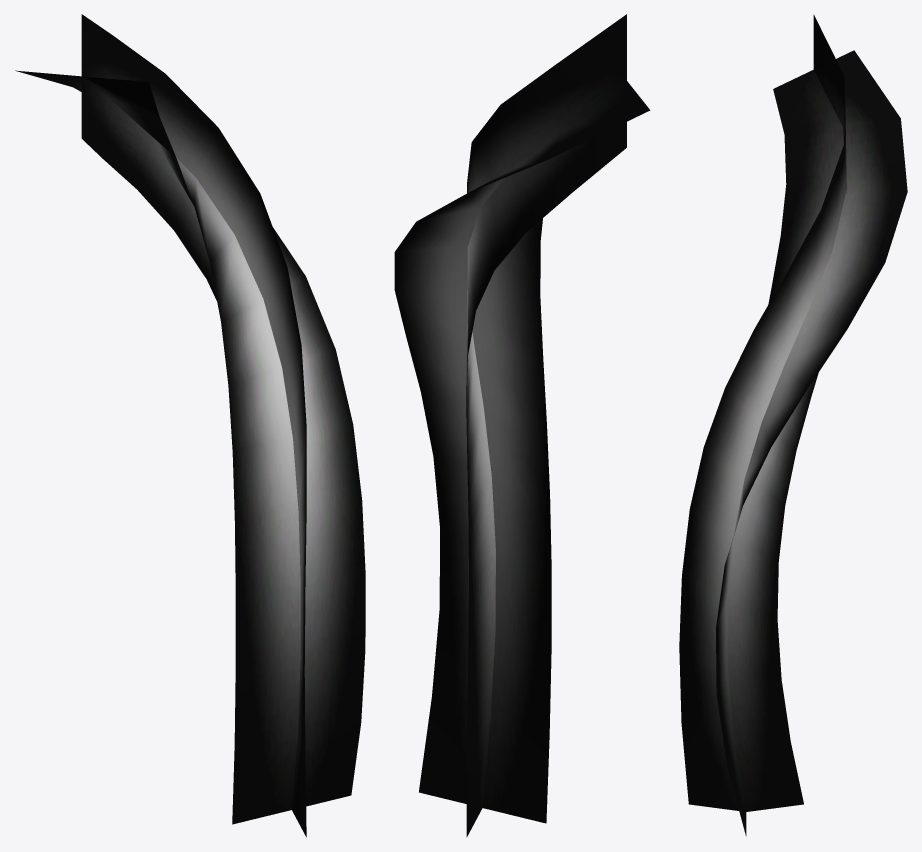
The model's file is vfx_kurp_0396.dae.
3 views of the same model, side by side, from view 1: azimuth 30°, elevation 25°; view 2: azimuth 150°, elevation 25°; view 3: azimuth 270°, elevation 25° (orthographic). The views are drawn at different scales.
Visible parts, largest first — view 1: vfx_kurp_0396; view 2: vfx_kurp_0396; view 3: vfx_kurp_0396.
Part boxes in pixels (box(x1,y1,x2,y2)): vfx_kurp_0396: box(15, 14, 365, 837); vfx_kurp_0396: box(394, 14, 650, 837); vfx_kurp_0396: box(679, 14, 907, 836).
Bounding box in the file's own units: 11.61 × 9.3 × 32.5.
1 material, 1 textured.
